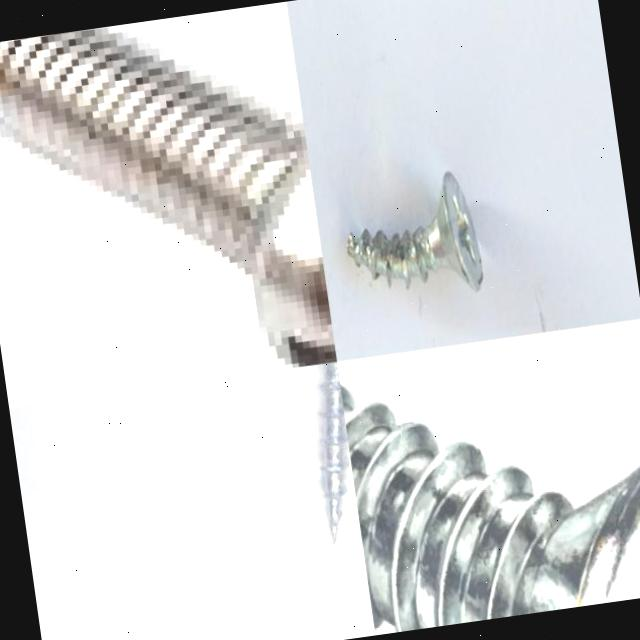Screw: (0, 24, 337, 369), (340, 385, 640, 633), (347, 171, 483, 290), (321, 362, 348, 543)
